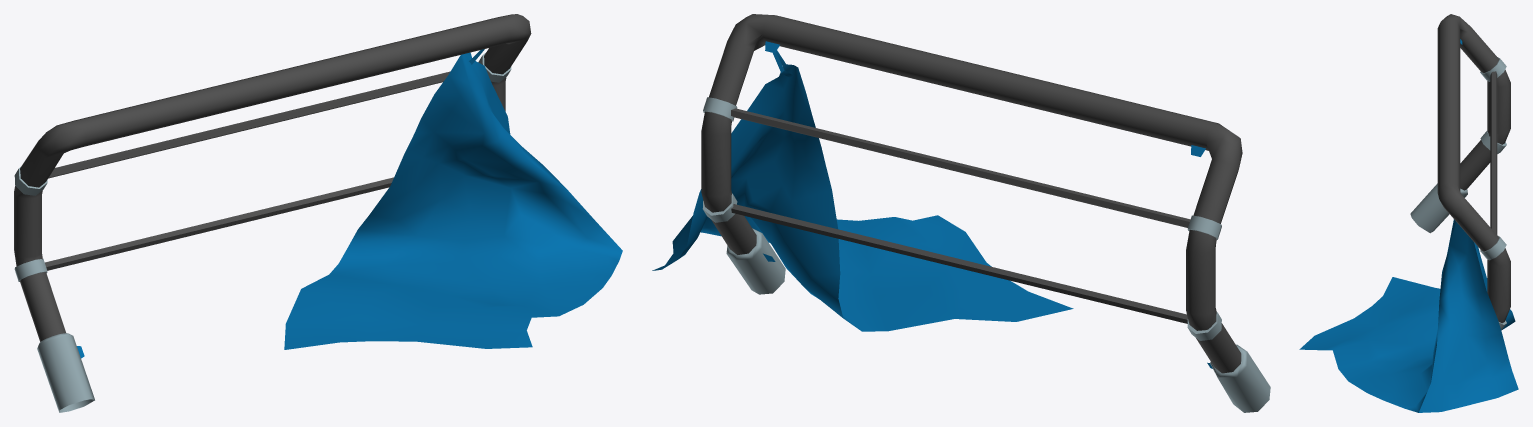
The model's file is env_building_warehouse01fence01A_lod1.fbx.
3 views of the same model, side by side, from view 1: azimuth 30°, elevation 25°; view 2: azimuth 150°, elevation 25°; view 3: azimuth 270°, elevation 25° (orthographic). The views are drawn at different scales.
Visible parts, largest first — view 1: env_building_warehouse01fence01A_lod1; view 2: env_building_warehouse01fence01A_lod1; view 3: env_building_warehouse01fence01A_lod1.
Part boxes in pixels (x1,y1,x2,y2): env_building_warehouse01fence01A_lod1: [14, 14, 622, 412]; env_building_warehouse01fence01A_lod1: [652, 14, 1270, 412]; env_building_warehouse01fence01A_lod1: [1299, 14, 1518, 412].
Bounding box in the file's own units: 69.84 × 33.23 × 30.02.
